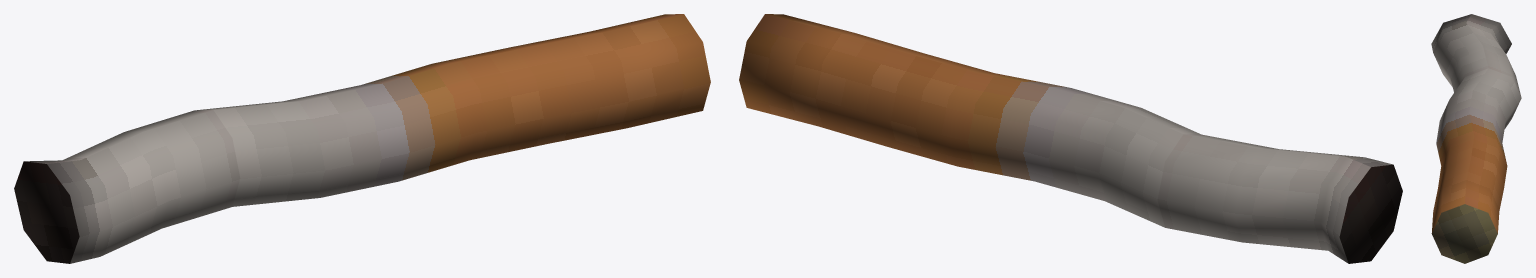
Rendered from cig_2.obj.
3 views of the same model, side by side, from view 1: azimuth 30°, elevation 25°; view 2: azimuth 150°, elevation 25°; view 3: azimuth 270°, elevation 25° (orthographic). The views are drawn at different scales.
Parts seen in each view (by area): view 1: cig_2; view 2: cig_2; view 3: cig_2.
Part boxes in pixels (x1,y1,x2,y2): cig_2: (14,14,710,263); cig_2: (739,14,1402,263); cig_2: (1431,14,1521,263).
Bounding box in the file's own units: 0.102 × 0.015 × 0.0205.
